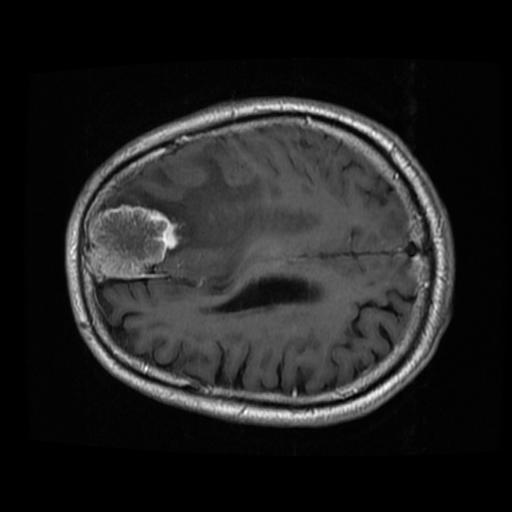meningioma: (87, 205, 179, 281)
